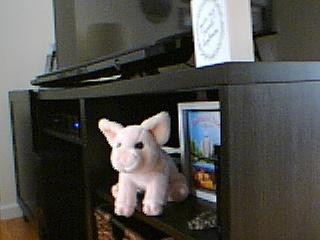piggy: (97, 110, 189, 218)
